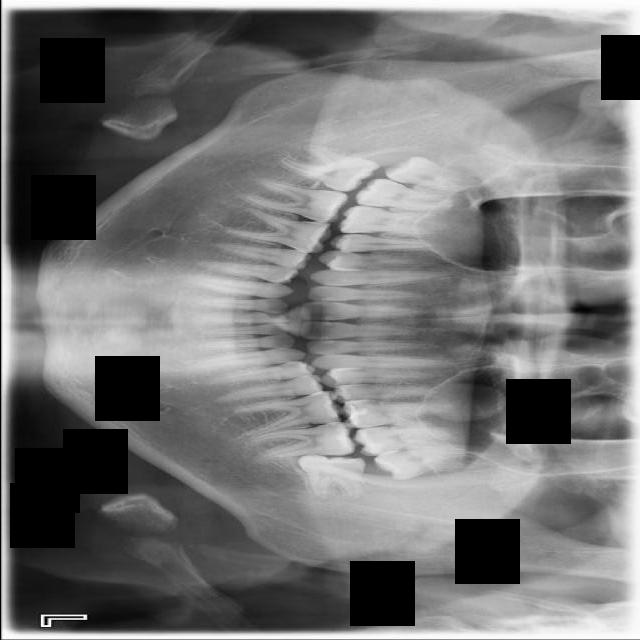3M ESPE Implant: (381, 150, 484, 198)
52: (285, 211, 336, 261), (316, 416, 358, 462), (351, 422, 399, 461), (300, 388, 342, 428), (339, 397, 385, 431), (333, 383, 371, 405)
73: (146, 580, 162, 592)
BioHorizons Implant: (353, 420, 464, 458)
BioLife Implant: (372, 448, 485, 480)
Biomet 3i Implant: (297, 453, 366, 501)
Blue Sky Bio Implant: (246, 420, 357, 463)
Caries: (351, 175, 463, 216)
Implant: (244, 177, 351, 227)
Keystone Dental Implant: (273, 136, 382, 200)
